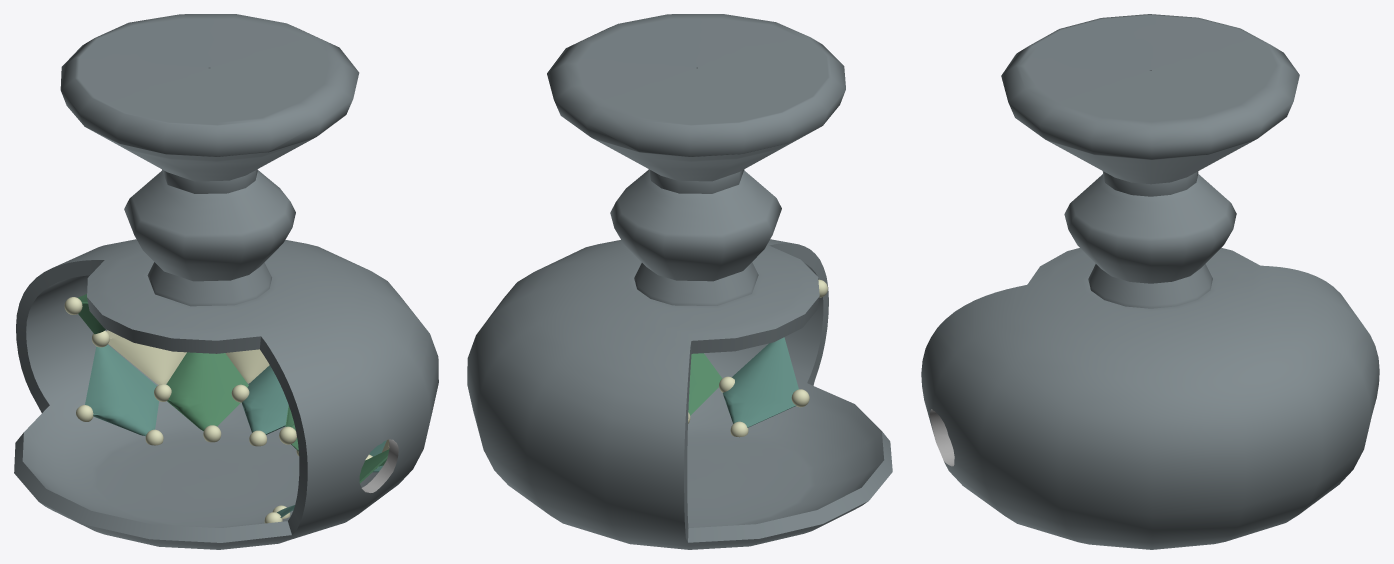
File: bottle with underworld window.fbx
The picture shows the model from 3 angles, left to right: view 1: azimuth 30°, elevation 25°; view 2: azimuth 150°, elevation 25°; view 3: azimuth 270°, elevation 25°; orthographic projection.
Parts seen in each view (by area): view 1: polySurface93, polySurface69, polySurface66, polySurface70, polySurface62, polySurface74; view 2: polySurface93, polySurface92, polySurface82; view 3: polySurface93.
Boxes of the visible parts, left/top/right/bottom form: polySurface93: left=14, top=14, right=438, bottom=549; polySurface69: left=85, top=344, right=158, bottom=436; polySurface66: left=166, top=352, right=248, bottom=430; polySurface70: left=241, top=365, right=288, bottom=434; polySurface62: left=106, top=330, right=186, bottom=384; polySurface74: left=225, top=349, right=269, bottom=383; polySurface93: left=467, top=14, right=892, bottom=549; polySurface92: left=723, top=337, right=798, bottom=427; polySurface82: left=688, top=353, right=722, bottom=415; polySurface93: left=921, top=14, right=1379, bottom=549.
Bounding box in the file's own units: 11.62 × 12.75 × 12.47.
